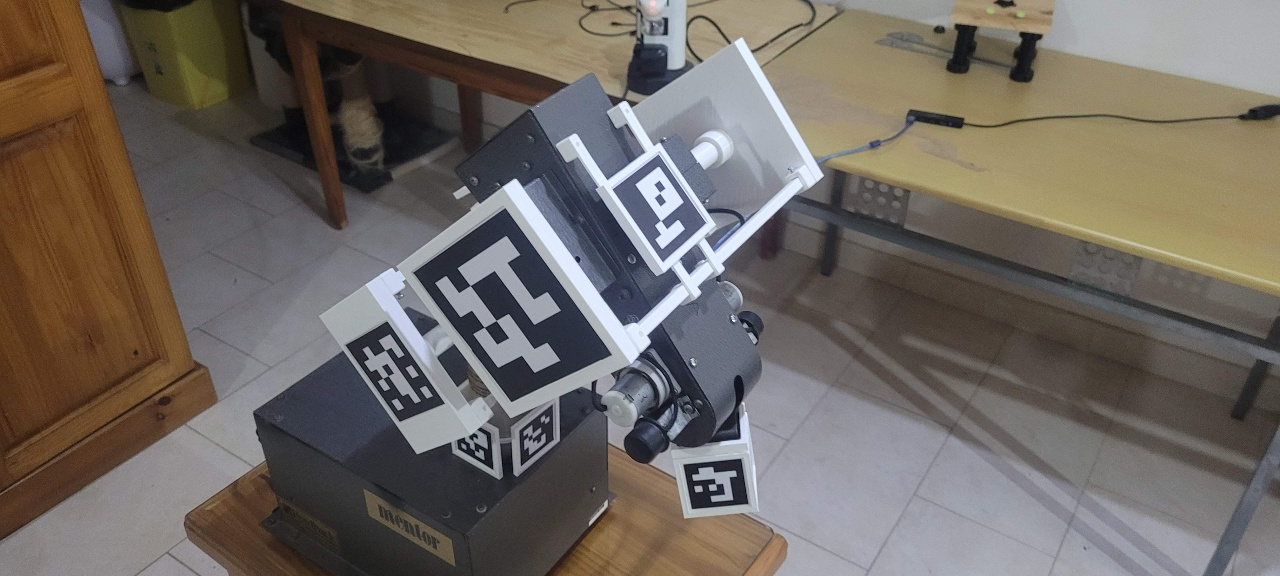Robot: (272, 10, 786, 576)
